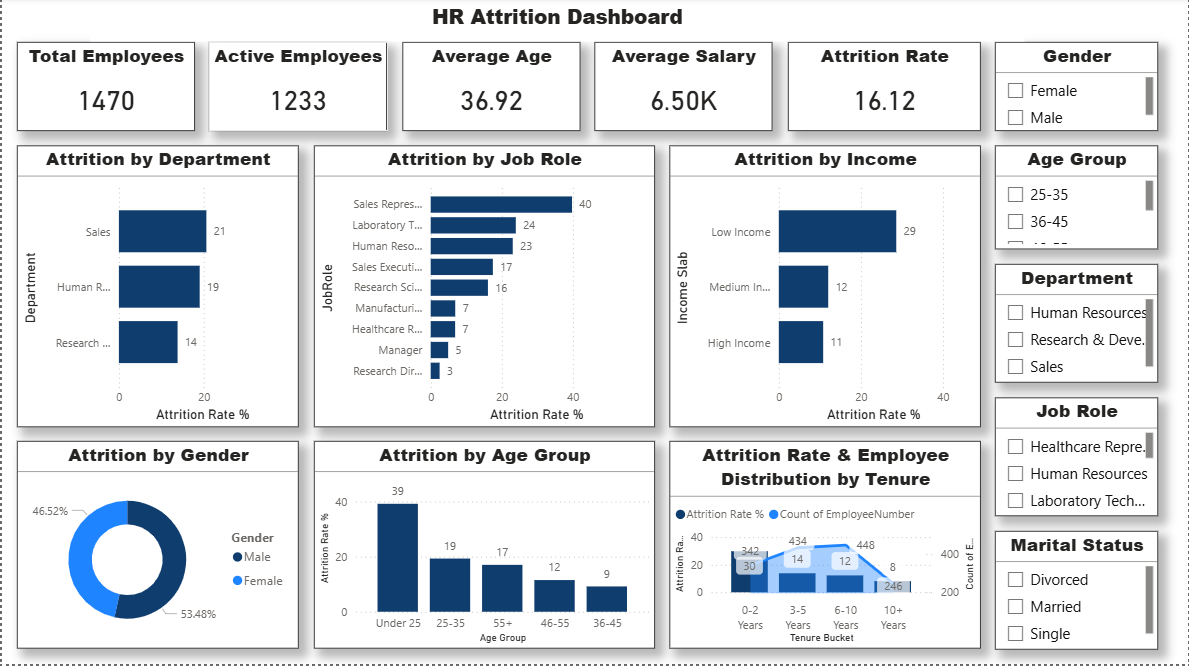

What the dashboard file says about the page in this screenshot:
{"tool":"powerbi","page":{"name":"HR Overview Dashboard","canvas":[1280,720],"ordinal":0},"visuals":[{"type":"card","title":"Total Employees","fields":{"Values":["HR Attrition.Total_Employees"]},"box":[16,48,192,96],"z":0},{"type":"card","title":"Active Employees","fields":{"Values":["HR Attrition.Active Employees"]},"box":[224,48,192,96],"z":1000},{"type":"card","title":"Average Age","fields":{"Values":["HR Attrition.Average Age"]},"box":[432,48,192,96],"z":2000},{"type":"card","title":"Average Salary","fields":{"Values":["HR Attrition.Average Salary"]},"box":[640,48,192,96],"z":3000},{"type":"card","title":"Attrition Rate","fields":{"Values":["HR Attrition.Attrition Rate %"]},"box":[848,48,208,96],"z":4000},{"type":"slicer","title":"Gender ","fields":{"Values":["HR Attrition.Gender"]},"box":[1072,48,176,96],"z":5000},{"type":"clusteredBarChart","title":"Attrition by Department","fields":{"Category":["HR Attrition.Department"],"Y":["HR Attrition.Attrition Rate %"]},"box":[16,160,304,304],"z":6000},{"type":"clusteredBarChart","title":"Attrition by Job Role","fields":{"Category":["HR Attrition.JobRole"],"Y":["HR Attrition.Attrition Rate %"]},"box":[336,160,368,304],"z":7000},{"type":"donutChart","title":"Attrition by Gender","fields":{"Category":["HR Attrition.Gender"],"Y":["HR Attrition.Attrition Rate %"]},"box":[16,480,304,224],"z":8000},{"type":"clusteredColumnChart","title":"Attrition by Age Group","fields":{"Category":["HR Attrition.Age Group"],"Y":["HR Attrition.Attrition Rate %"]},"box":[336,480,368,224],"z":9000},{"type":"clusteredBarChart","title":"Attrition by Income","fields":{"Category":["HR Attrition.Income Slab"],"Y":["HR Attrition.Attrition Rate %"]},"box":[720,160,336,304],"z":10000},{"type":"lineClusteredColumnComboChart","title":"Attrition Rate & Employee Distribution by Tenure","fields":{"Category":["HR Attrition.Tenure Bucket"],"Y":["HR Attrition.Attrition Rate %"],"Y2":["CountNonNull(HR Attrition.EmployeeNumber)"]},"box":[720,480,336,224],"z":11000},{"type":"slicer","title":"Age Group","fields":{"Values":["HR Attrition.Age Group"]},"box":[1072,160,176,112],"z":12000},{"type":"slicer","title":"Department","fields":{"Values":["HR Attrition.Department"]},"box":[1072,288,176,128],"z":13000},{"type":"slicer","title":"Job Role","fields":{"Values":["HR Attrition.JobRole"]},"box":[1072,432,176,128],"z":14000},{"type":"slicer","title":"Marital Status","fields":{"Values":["HR Attrition.MaritalStatus"]},"box":[1072,576,176,128],"z":15000},{"type":"textbox","box":[96,0,1008,48],"z":15001}]}

Visuals, with their boxes in screenshot pixels (x1, y1, x2, y2), scaled from the page's 1280x720 canvas onto the 1189x666 screenshot:
"Total Employees" card: 15,44,193,133
"Active Employees" card: 208,44,386,133
"Average Age" card: 401,44,580,133
"Average Salary" card: 594,44,773,133
"Attrition Rate" card: 788,44,981,133
"Gender " slicer: 996,44,1159,133
"Attrition by Department" clusteredBarChart: 15,148,297,429
"Attrition by Job Role" clusteredBarChart: 312,148,654,429
"Attrition by Gender" donutChart: 15,444,297,651
"Attrition by Age Group" clusteredColumnChart: 312,444,654,651
"Attrition by Income" clusteredBarChart: 669,148,981,429
"Attrition Rate & Employee Distribution by Tenure" lineClusteredColumnComboChart: 669,444,981,651
"Age Group" slicer: 996,148,1159,252
"Department" slicer: 996,266,1159,385
"Job Role" slicer: 996,400,1159,518
"Marital Status" slicer: 996,533,1159,651
textbox: 89,0,1026,44
